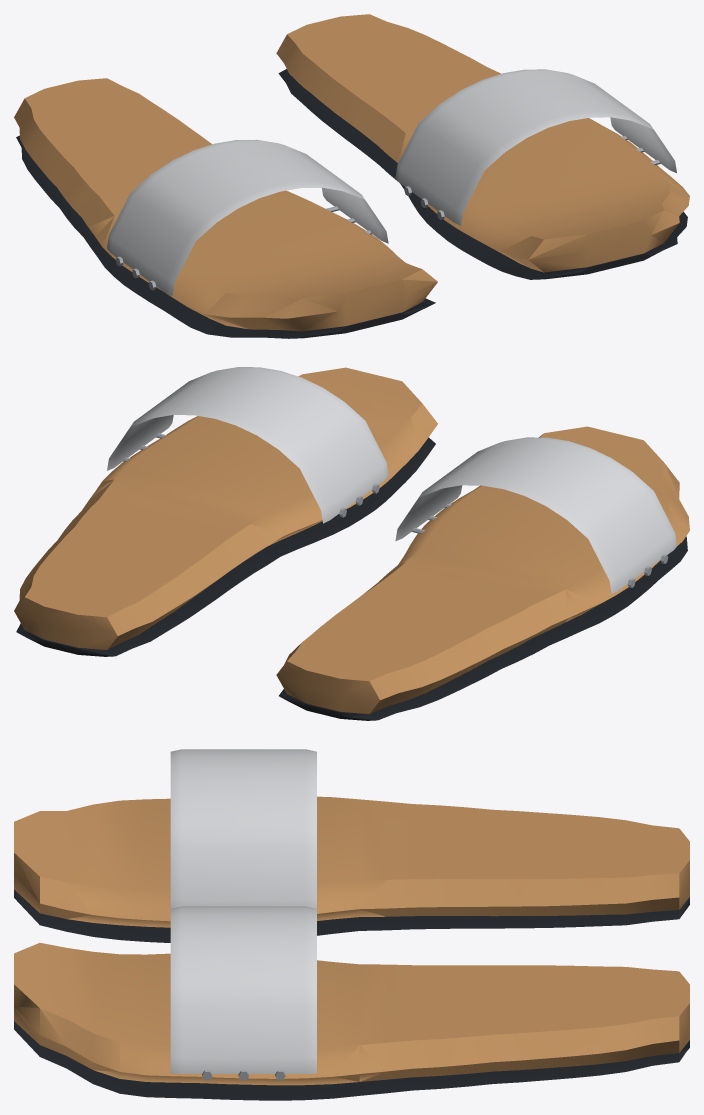
The model's file is guoc_moc_vn.far.glb.
3 views of the same model, one above another, from view 1: azimuth 30°, elevation 25°; view 2: azimuth 150°, elevation 25°; view 3: azimuth 270°, elevation 25° (orthographic). The views are drawn at different scales.
Parts seen in each view (by area): view 1: guoc_moc_vn; view 2: guoc_moc_vn; view 3: guoc_moc_vn.
Part boxes in pixels (<box>): guoc_moc_vn: <box>14,14,689,338</box>; guoc_moc_vn: <box>14,367,689,720</box>; guoc_moc_vn: <box>14,749,689,1100</box>.
Bounding box in the file's own units: 0.2494 × 0.0503 × 0.2537.
